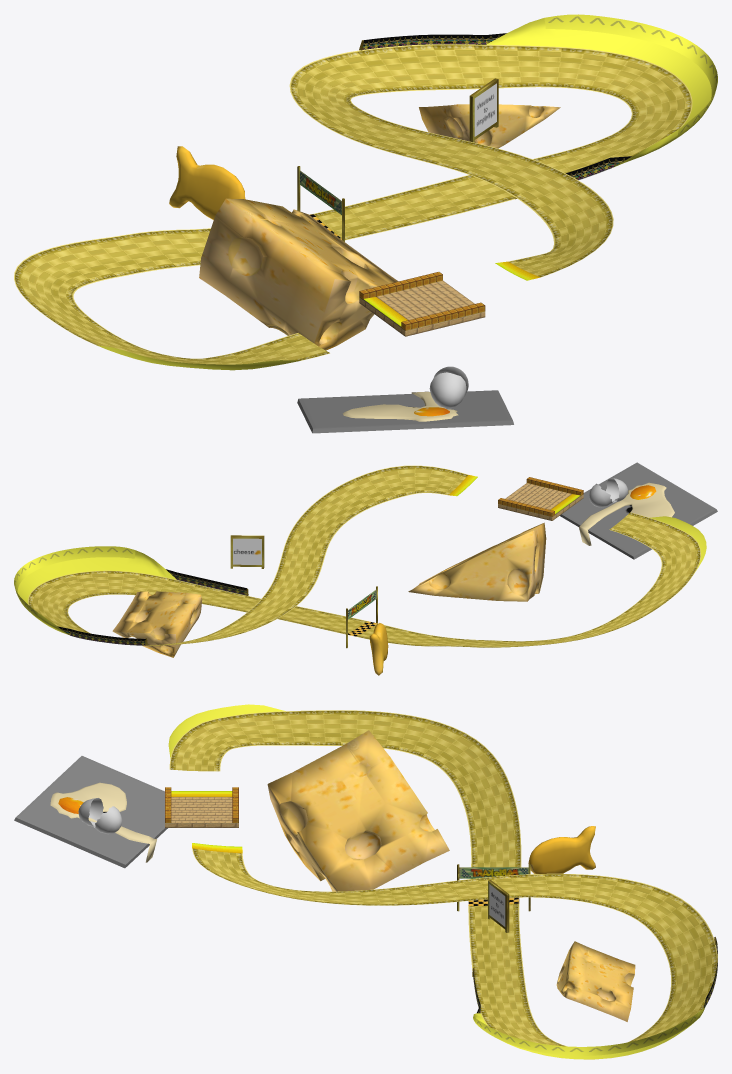
3 renders of one model, top to bottom at view 1: azimuth 30°, elevation 25°; view 2: azimuth 150°, elevation 25°; view 3: azimuth 270°, elevation 25°, orthographic. The views are drawn at different scales.
Visible parts, largest first — view 1: road.027, cheese, mac and cheese, reject, halfpipe.005, transparentroad, platformroadtransparent, fence.018, platformwall, sign.004, platformroad, platformramp.001; view 2: road.027, cheese, mac and cheese, reject, transparentroad, halfpipe.005, fence.018, platformroadtransparent, platformwall, sign.003, platformramp.001, platformroad (+1 smaller); view 3: road.027, cheese, mac and cheese, halfpipe.005, reject, transparentroad, platformroadtransparent, platformramp.001, flag.002.
Boxes of the visible parts, bbox=[...] form: road.027: bbox=[14, 44, 692, 364]; cheese: bbox=[199, 104, 560, 350]; mac and cheese: bbox=[169, 146, 513, 433]; reject: bbox=[97, 18, 711, 370]; halfpipe.005: bbox=[544, 14, 717, 138]; transparentroad: bbox=[342, 122, 480, 166]; platformroadtransparent: bbox=[376, 280, 474, 320]; fence.018: bbox=[362, 33, 631, 180]; platformwall: bbox=[359, 272, 485, 330]; sign.004: bbox=[474, 83, 496, 136]; platformroad: bbox=[359, 297, 485, 336]; platformramp.001: bbox=[364, 261, 540, 326]; road.027: bbox=[28, 465, 700, 647]; cheese: bbox=[112, 522, 546, 657]; mac and cheese: bbox=[369, 462, 717, 675]; reject: bbox=[17, 516, 706, 634]; transparentroad: bbox=[268, 550, 325, 594]; halfpipe.005: bbox=[14, 546, 135, 618]; fence.018: bbox=[57, 569, 247, 645]; platformroadtransparent: bbox=[505, 483, 571, 509]; platformwall: bbox=[498, 477, 583, 516]; sign.003: bbox=[233, 538, 261, 564]; platformramp.001: bbox=[448, 475, 580, 513]; platformroad: bbox=[498, 494, 583, 520]; road.027: bbox=[169, 710, 717, 1059]; cheese: bbox=[267, 730, 635, 1021]; mac and cheese: bbox=[14, 756, 595, 873]; halfpipe.005: bbox=[475, 1013, 697, 1055]; reject: bbox=[168, 704, 705, 1059]; transparentroad: bbox=[440, 874, 548, 901]; platformroadtransparent: bbox=[171, 797, 232, 822]; platformramp.001: bbox=[171, 791, 242, 853]; flag.002: bbox=[459, 867, 528, 878].
Bounding box in the file's own units: 40628 × 8035 × 38791.
17 materials, 17 textured.
